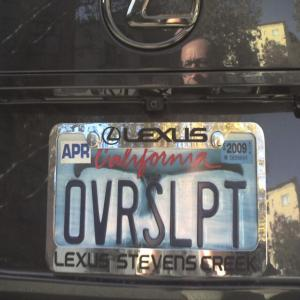Vehicle-registration-plate: (45, 123, 269, 280)
